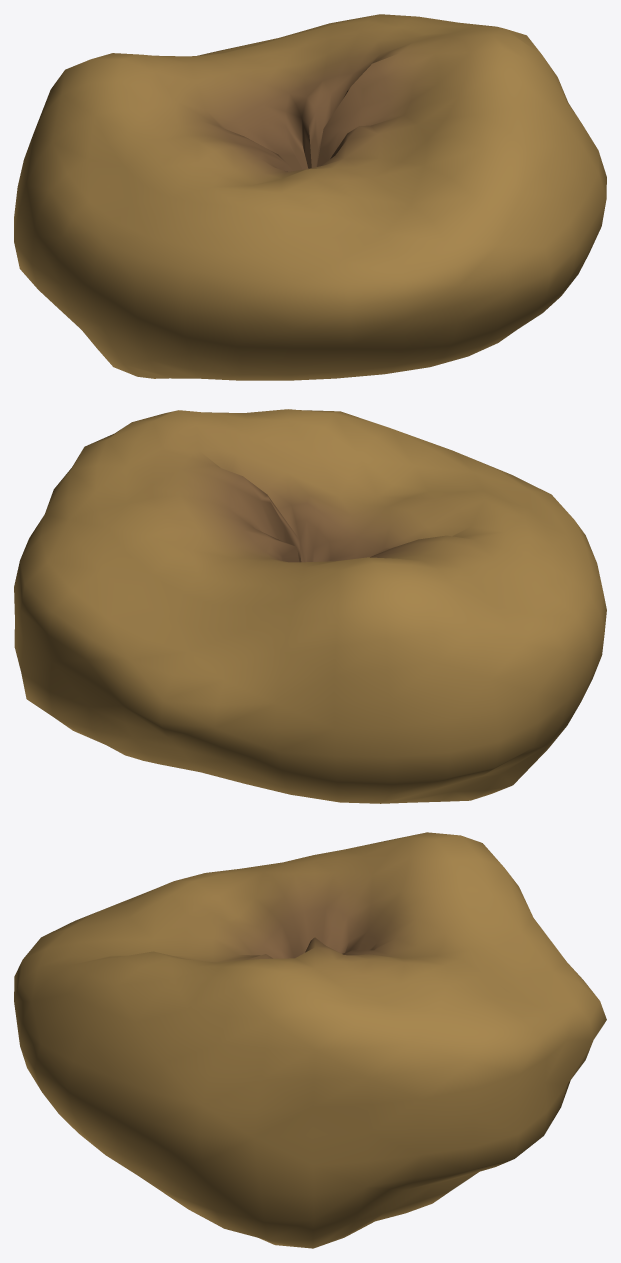
Rendered from microscopic-cells-skin-cell_v1.glb.
The picture shows the model from 3 angles, top to bottom: view 1: azimuth 30°, elevation 25°; view 2: azimuth 150°, elevation 25°; view 3: azimuth 270°, elevation 25°; orthographic projection. The views are drawn at different scales.
Visible parts, largest first — view 1: Skin Cell_v1; view 2: Skin Cell_v1; view 3: Skin Cell_v1.
Part boxes in pixels (x1=…): Skin Cell_v1: x1=14, y1=14, x2=606, y2=380; Skin Cell_v1: x1=14, y1=409, x2=606, y2=803; Skin Cell_v1: x1=14, y1=832, x2=606, y2=1248.
Size of the model in its own units: 0.2866 by 0.155 by 0.3.
